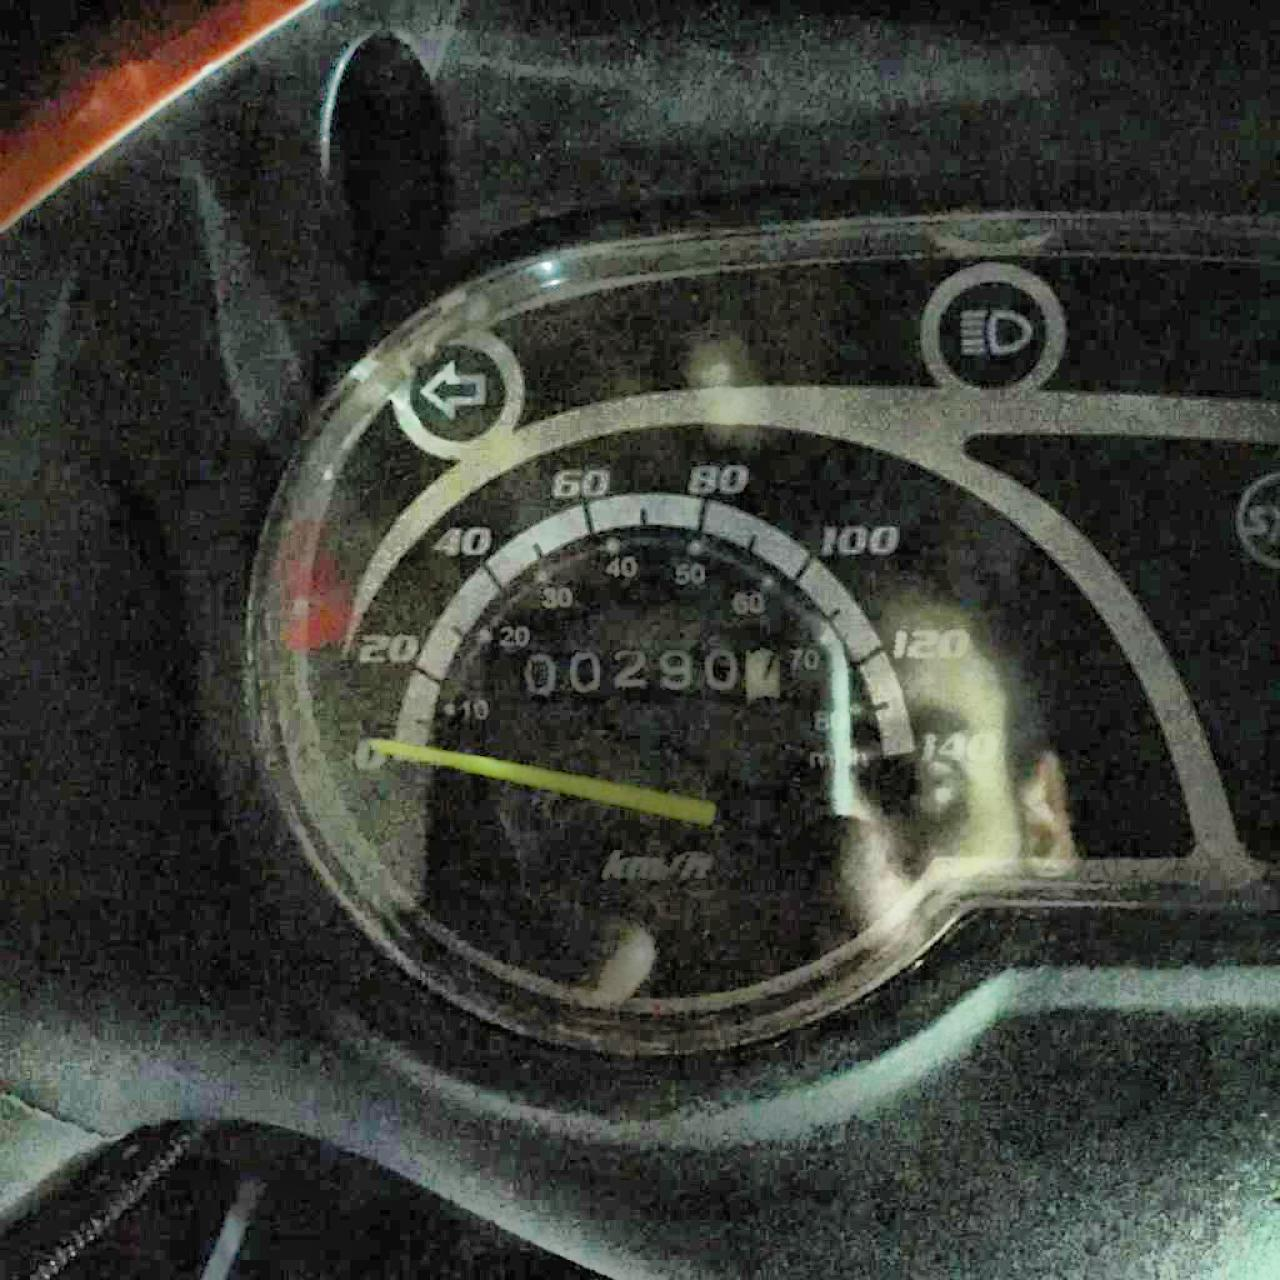0: (523, 652, 556, 696), (567, 648, 600, 693), (703, 647, 736, 692)
2: (613, 646, 645, 686)
7: (748, 642, 776, 681)
9: (658, 649, 692, 689)
odometer: (505, 639, 787, 703)
